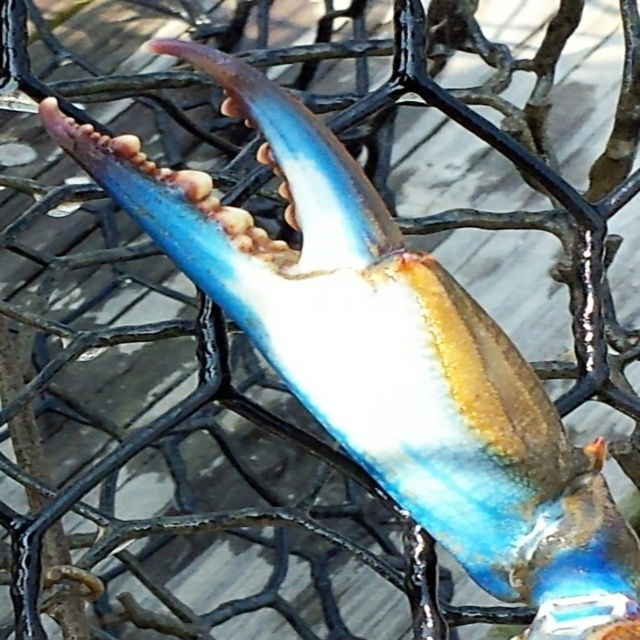Crab: (34, 37, 639, 639)
